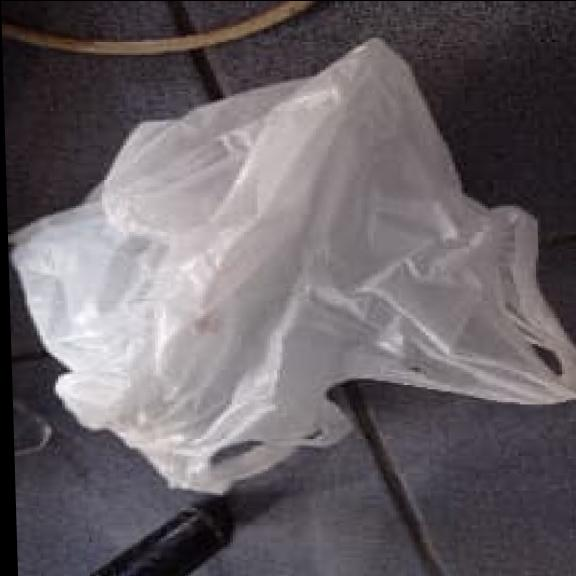Plastik: (13, 39, 576, 492)
